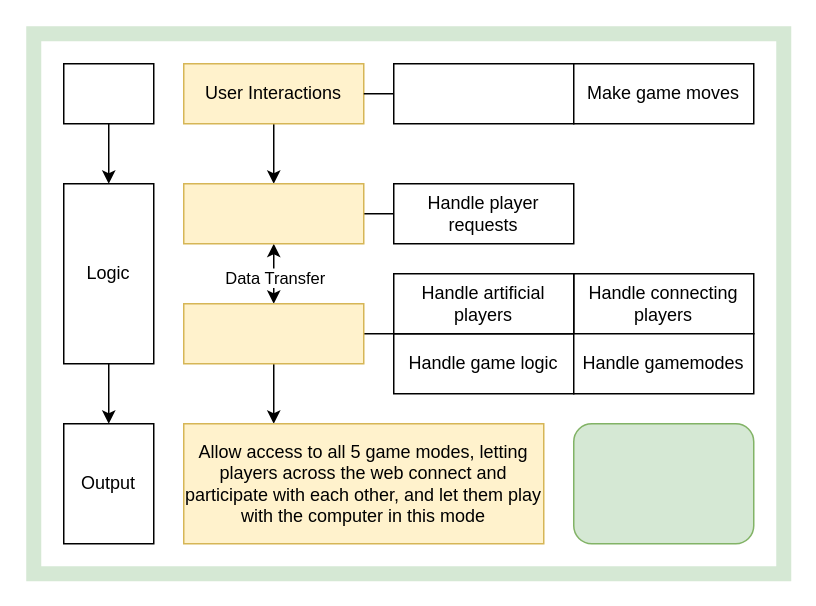
This 816x606 diagram has some shape labels left out. The shapes that lost their labels are listed below. From the top down, each one's centre as x and y in pixels, then its label:
At (108,93): "Input".
At (483,93): "Pick play modes".
At (273,213): "Front-end".
At (273,333): "Back-end".
At (663,483): "Design Diagram D1".
